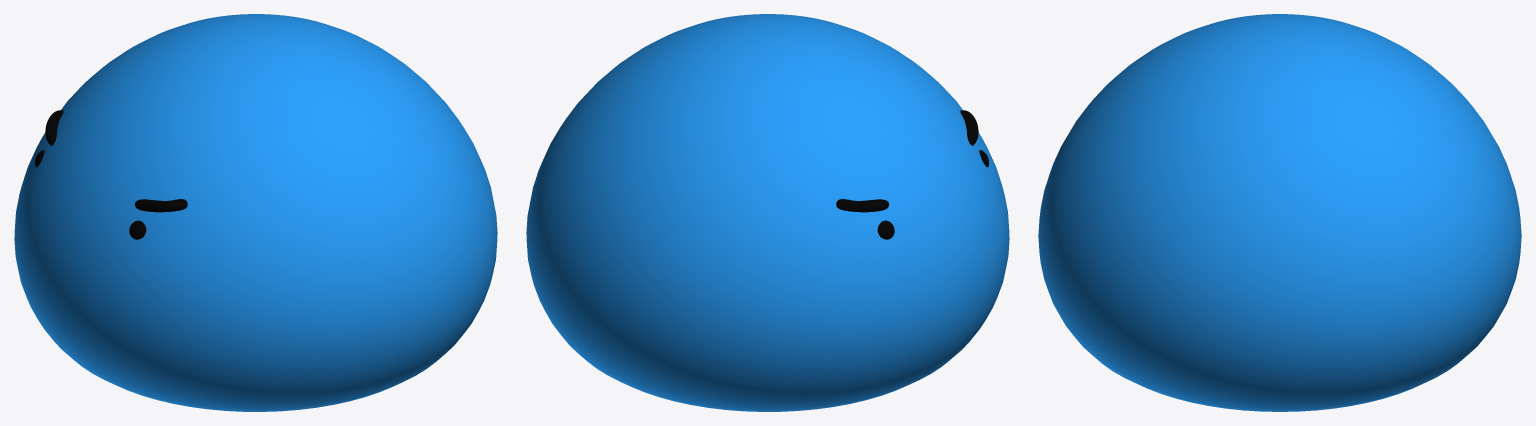
The model's file is slime.glb.
The picture shows the model from 3 angles, left to right: view 1: azimuth 30°, elevation 25°; view 2: azimuth 150°, elevation 25°; view 3: azimuth 270°, elevation 25°; orthographic projection.
Visible parts, largest first — view 1: Sphere, Sphere.001; view 2: Sphere, Sphere.001; view 3: Sphere.
Boxes of the visible parts, box(x1,y1,x2,y2) form: Sphere: box(14, 14, 497, 411); Sphere.001: box(45, 110, 187, 212); Sphere: box(526, 14, 1009, 411); Sphere.001: box(836, 110, 978, 212); Sphere: box(1038, 14, 1521, 411).
Bounding box in the file's own units: 2 × 1.4 × 2.
